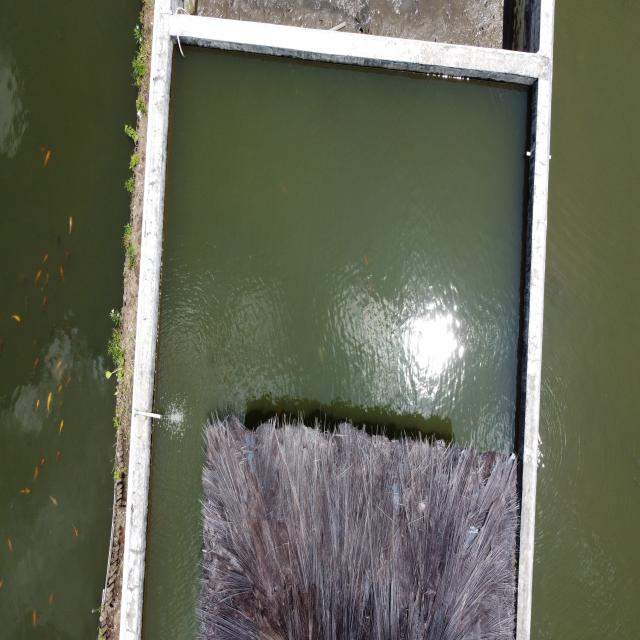Ponds: (122, 13, 554, 640), (1, 1, 149, 640), (518, 1, 640, 640)
